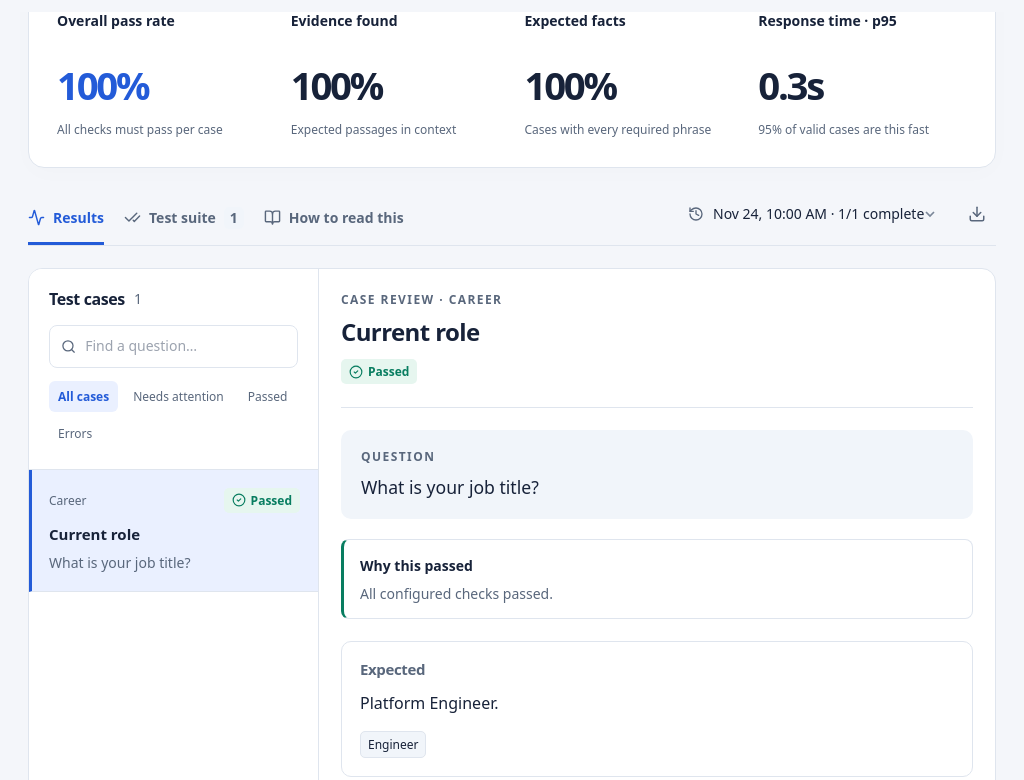
results show actual and reference answers, evidence, and useful filters
The image size is (1024, 780).
Expected: the text "Platform Engineer." is shown, [360, 692, 498, 714]
Click the button "Needs attention": (178,396) [124, 380, 233, 412]
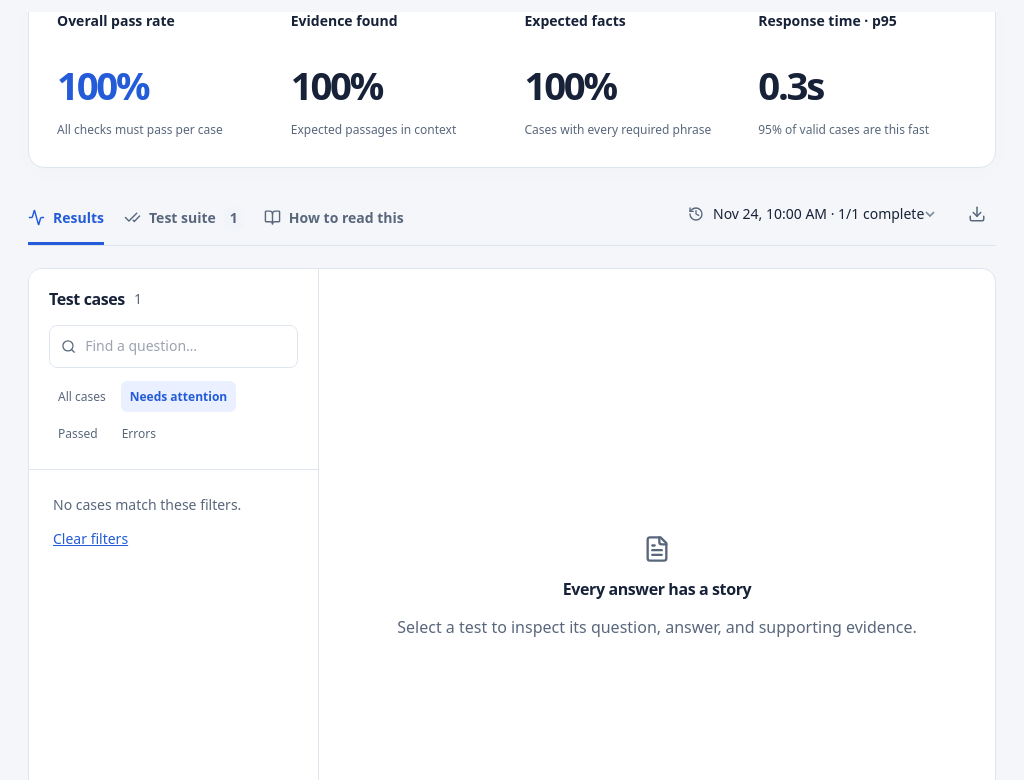
Expected: the text "No cases match these filters. Clear filters" is shown, [53, 495, 241, 551]
Click the button "Clear filters": (91,540) [53, 528, 128, 551]
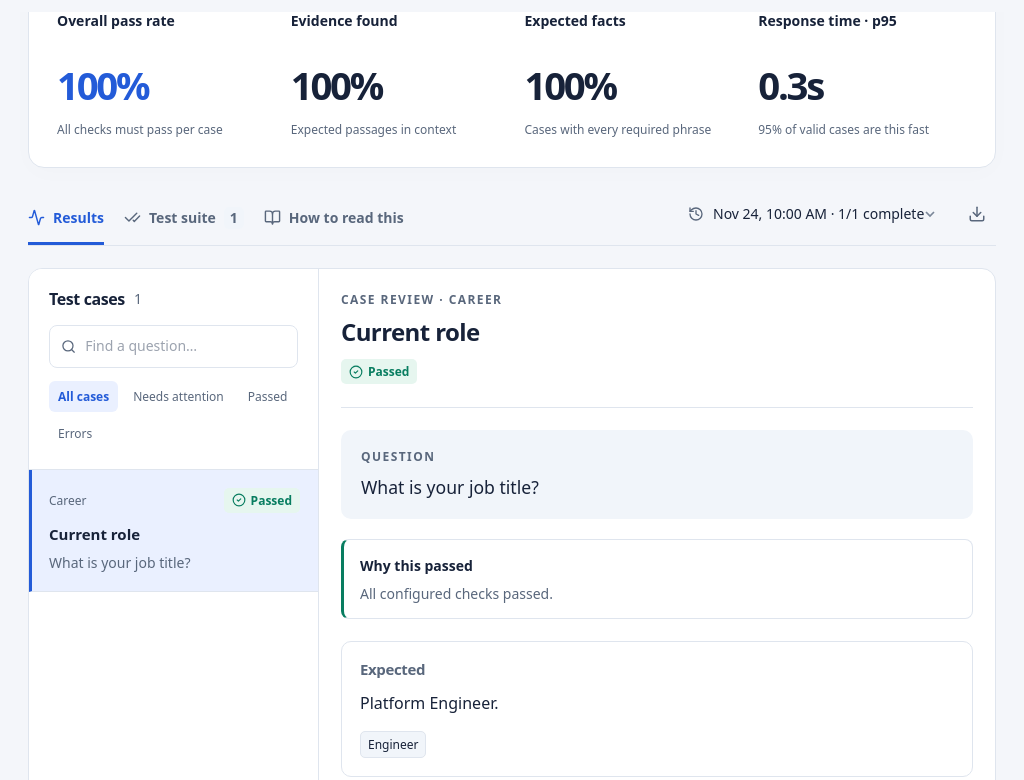
Click the button "How to read this": (334,219) [264, 194, 404, 245]
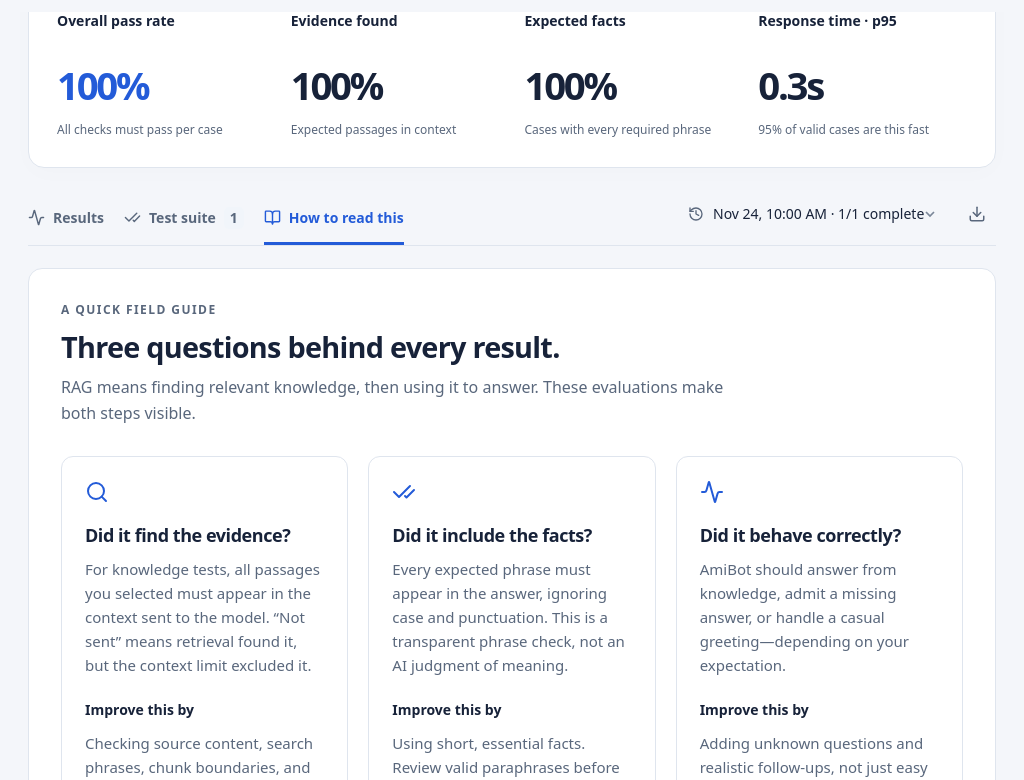
Expected: the text "not an AI judgment of meaning" is shown, [392, 559, 625, 675]
